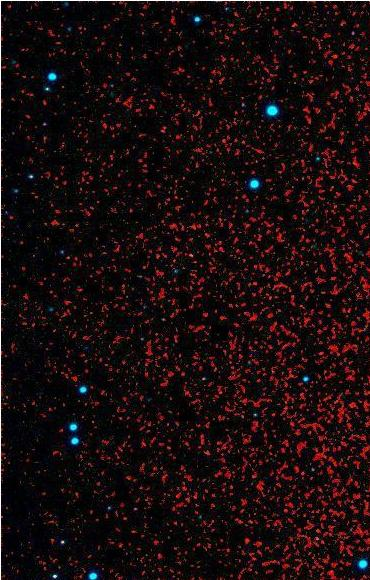star: (176, 241, 206, 271)
